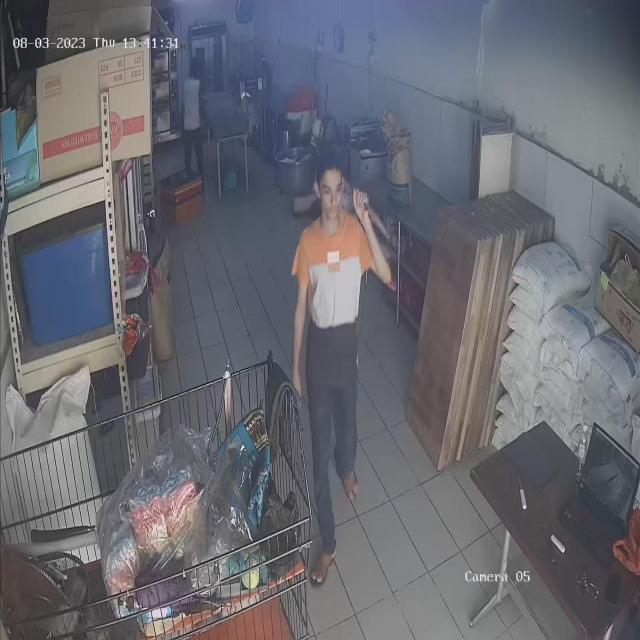Knife: (353, 183, 401, 247)
